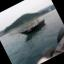fishing boat: (16, 14, 50, 40)
